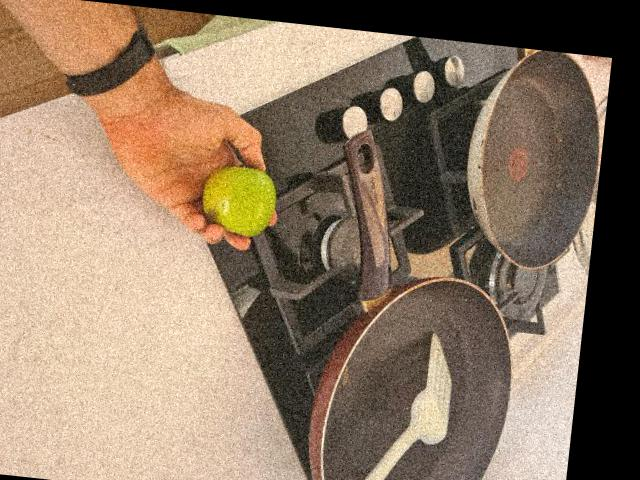apple: (185, 154, 280, 248)
